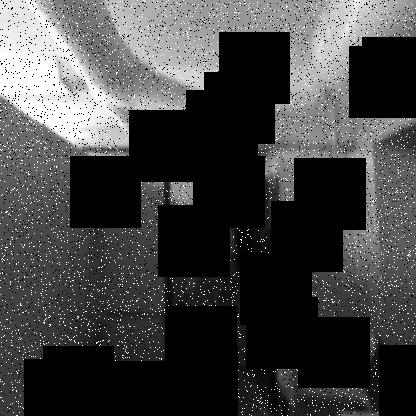Porte: (161, 171, 285, 415)
